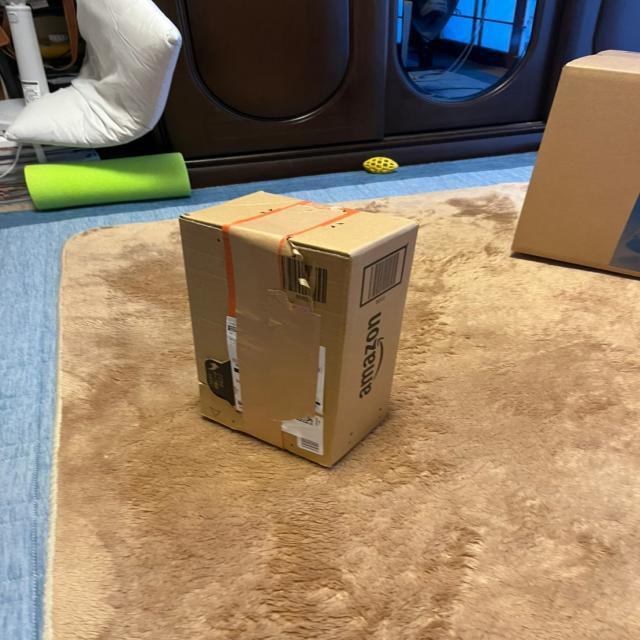box: (172, 186, 426, 476)
